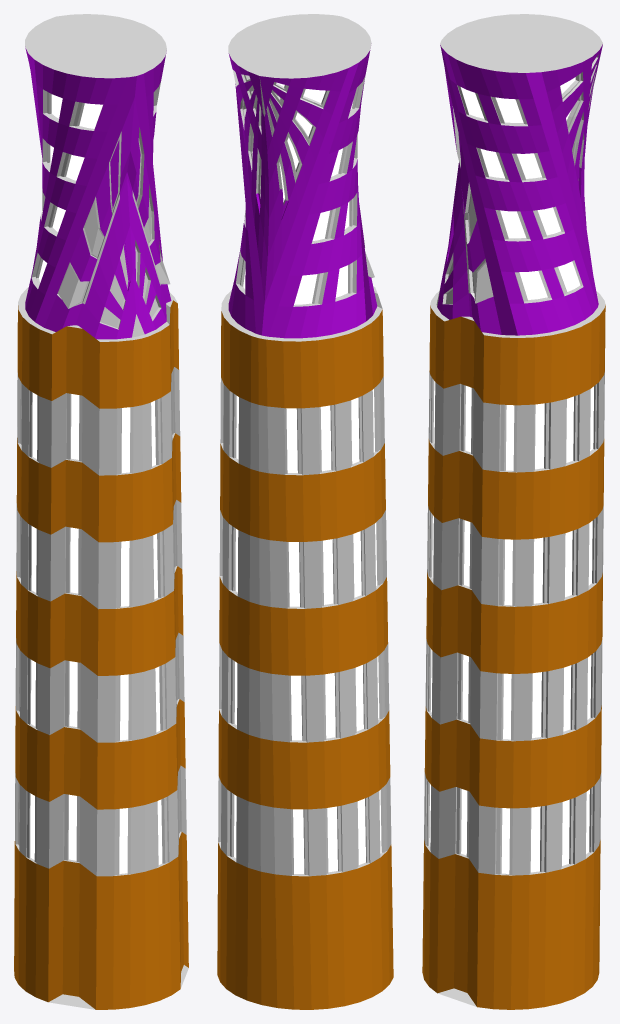
Rendered from capicola_tower.fbx.
3 renders of one model, left to right at view 1: azimuth 30°, elevation 25°; view 2: azimuth 150°, elevation 25°; view 3: azimuth 270°, elevation 25°, orthographic.
Visible parts, largest first — view 1: Circle; view 2: Circle; view 3: Circle.
Part boxes in pixels (x1,y1,x2,y2): Circle: [14, 14, 188, 1009]; Circle: [217, 14, 393, 1009]; Circle: [422, 14, 605, 1009].
Bounding box in the file's own units: 240 × 1390 × 248.
